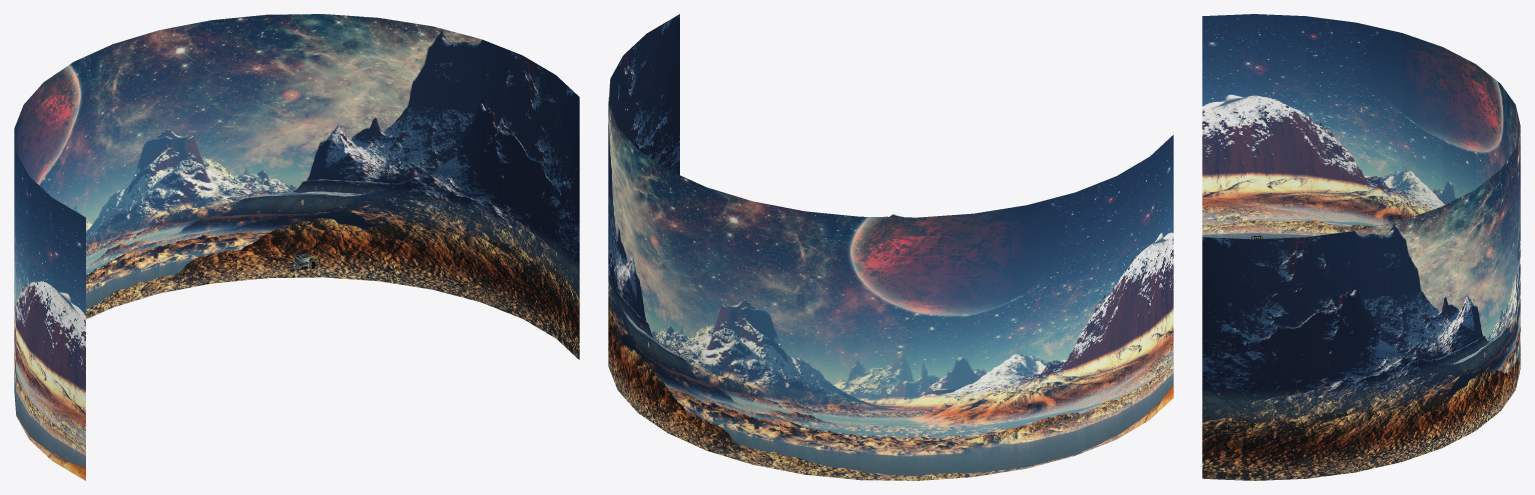
The model's file is room1107.glb.
3 renders of one model, left to right at view 1: azimuth 30°, elevation 25°; view 2: azimuth 150°, elevation 25°; view 3: azimuth 270°, elevation 25°, orthographic. The views are drawn at different scales.
Visible parts, largest first — view 1: Wallpaper; view 2: Wallpaper; view 3: Wallpaper.
Part boxes in pixels (x1=…): Wallpaper: x1=14, y1=14, x2=579, y2=480; Wallpaper: x1=608, y1=14, x2=1173, y2=480; Wallpaper: x1=1202, y1=14, x2=1520, y2=480.
Size of the model in its own units: 200 by 100 by 120.
2 materials, 2 textured.
